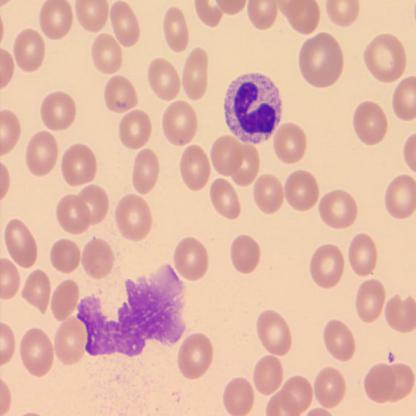Band Neutrophil: (223, 69, 284, 146)
